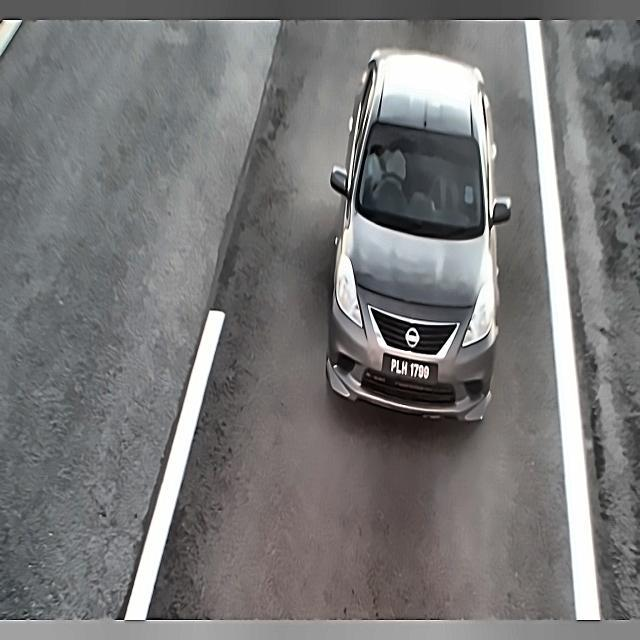car: (378, 352, 444, 392)
